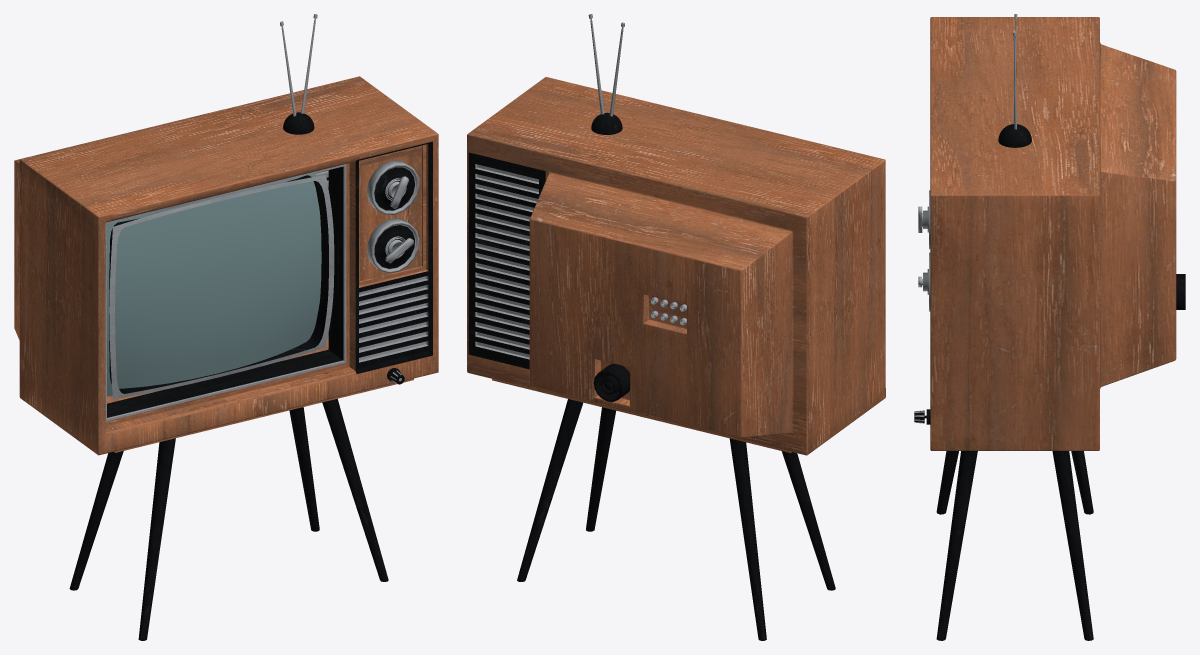
3 views of the same model, side by side, from view 1: azimuth 30°, elevation 25°; view 2: azimuth 150°, elevation 25°; view 3: azimuth 270°, elevation 25° (orthographic). The views are drawn at different scales.
Visible parts, largest first — view 1: Cube.001, Cube, Cube.003, Cylinder.001, Sphere, Cube.002; view 2: Cube.001, Cube.003, Sphere, Cylinder.005, Cube.002; view 3: Cube.001, Cube.003, Sphere, Cylinder.001.
Boxes of the visible parts, bbox=[...] form: Cube.001: bbox=[14, 76, 438, 455]; Cube: bbox=[107, 173, 321, 396]; Cube.003: bbox=[69, 399, 388, 640]; Cylinder.001: bbox=[367, 160, 419, 273]; Sphere: bbox=[280, 14, 317, 134]; Cube.002: bbox=[114, 378, 413, 452]; Cube.001: bbox=[467, 77, 885, 455]; Cube.003: bbox=[517, 399, 835, 640]; Sphere: bbox=[588, 14, 624, 134]; Cylinder.005: bbox=[593, 363, 629, 401]; Cube.002: bbox=[492, 379, 791, 452]; Cube.001: bbox=[930, 17, 1176, 450]; Cube.003: bbox=[936, 451, 1093, 640]; Sphere: bbox=[998, 14, 1031, 147]; Cylinder.001: bbox=[918, 190, 930, 311].
Size of the model in its own units: 5.02 by 7.73 by 3.23.
4 materials, 3 textured.
